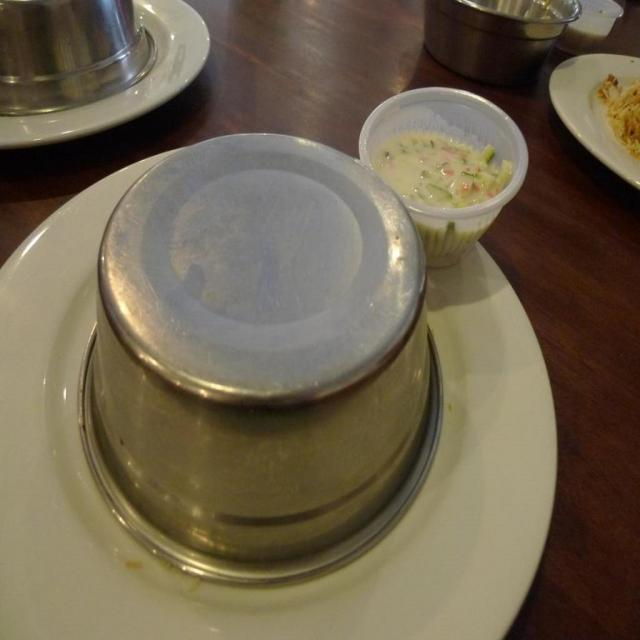non-organic waste: (3, 133, 625, 640)
